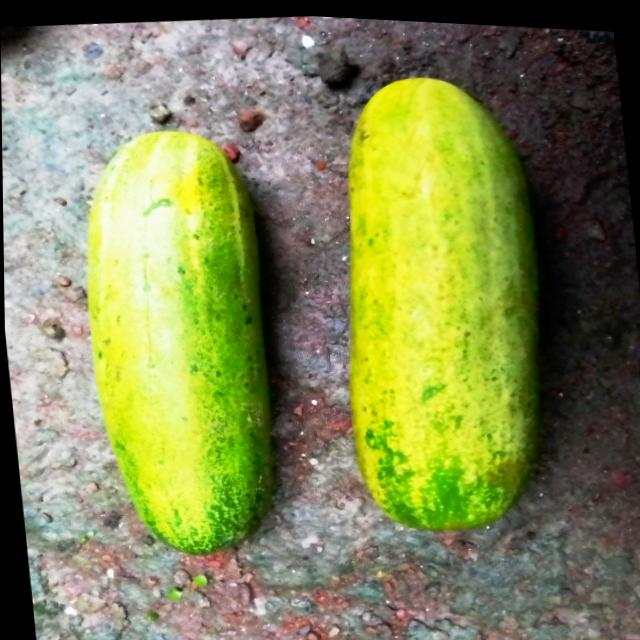Fresh-Cucumber: (313, 57, 560, 542), (67, 117, 287, 564)
